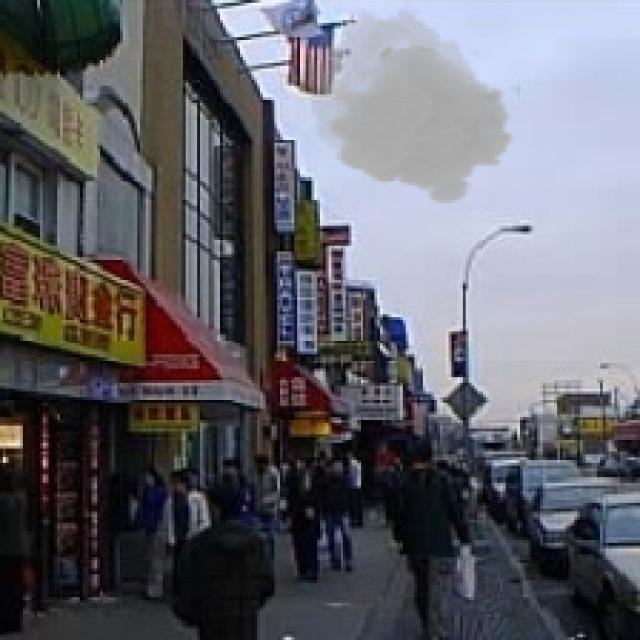Smoke: (312, 3, 517, 206)
